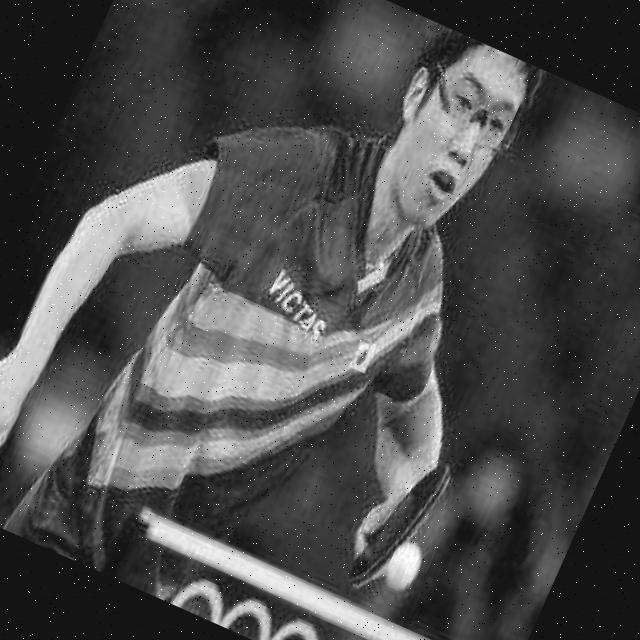ping-pong-ball: (375, 528, 432, 595)
